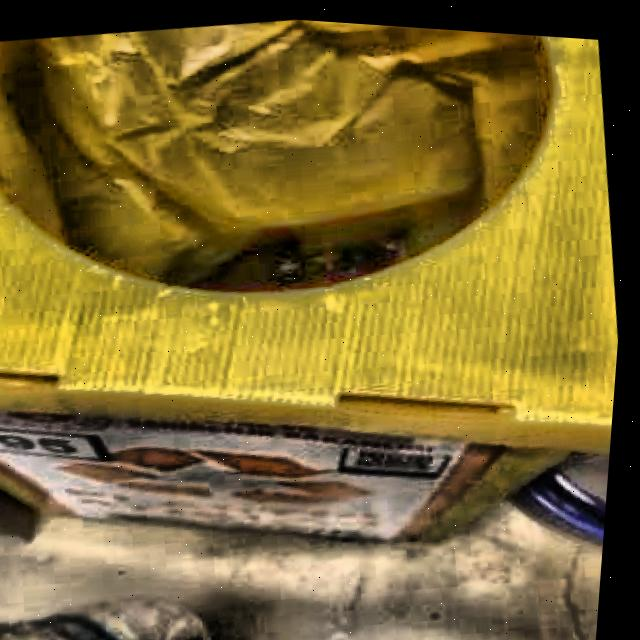plastic: (3, 595, 222, 640)
